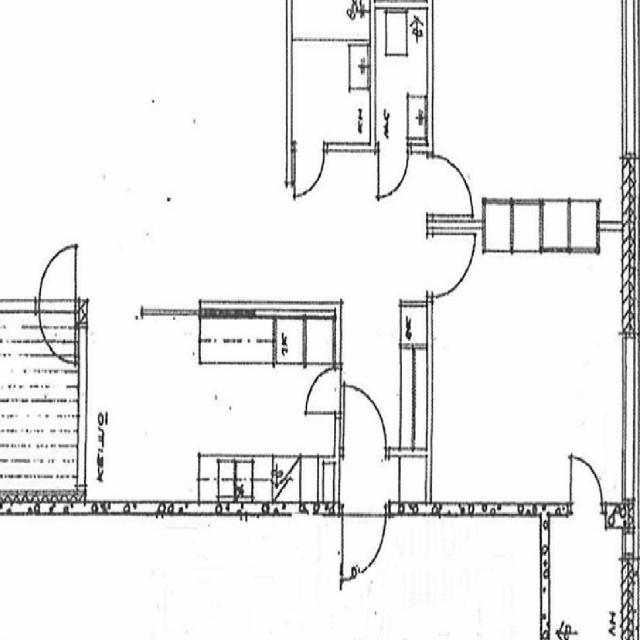door: (342, 502, 386, 579), (344, 385, 386, 456), (427, 233, 475, 295), (427, 155, 472, 214), (39, 300, 76, 367), (39, 245, 76, 312), (570, 455, 602, 514), (305, 368, 340, 414), (294, 144, 324, 196), (379, 144, 408, 195)
